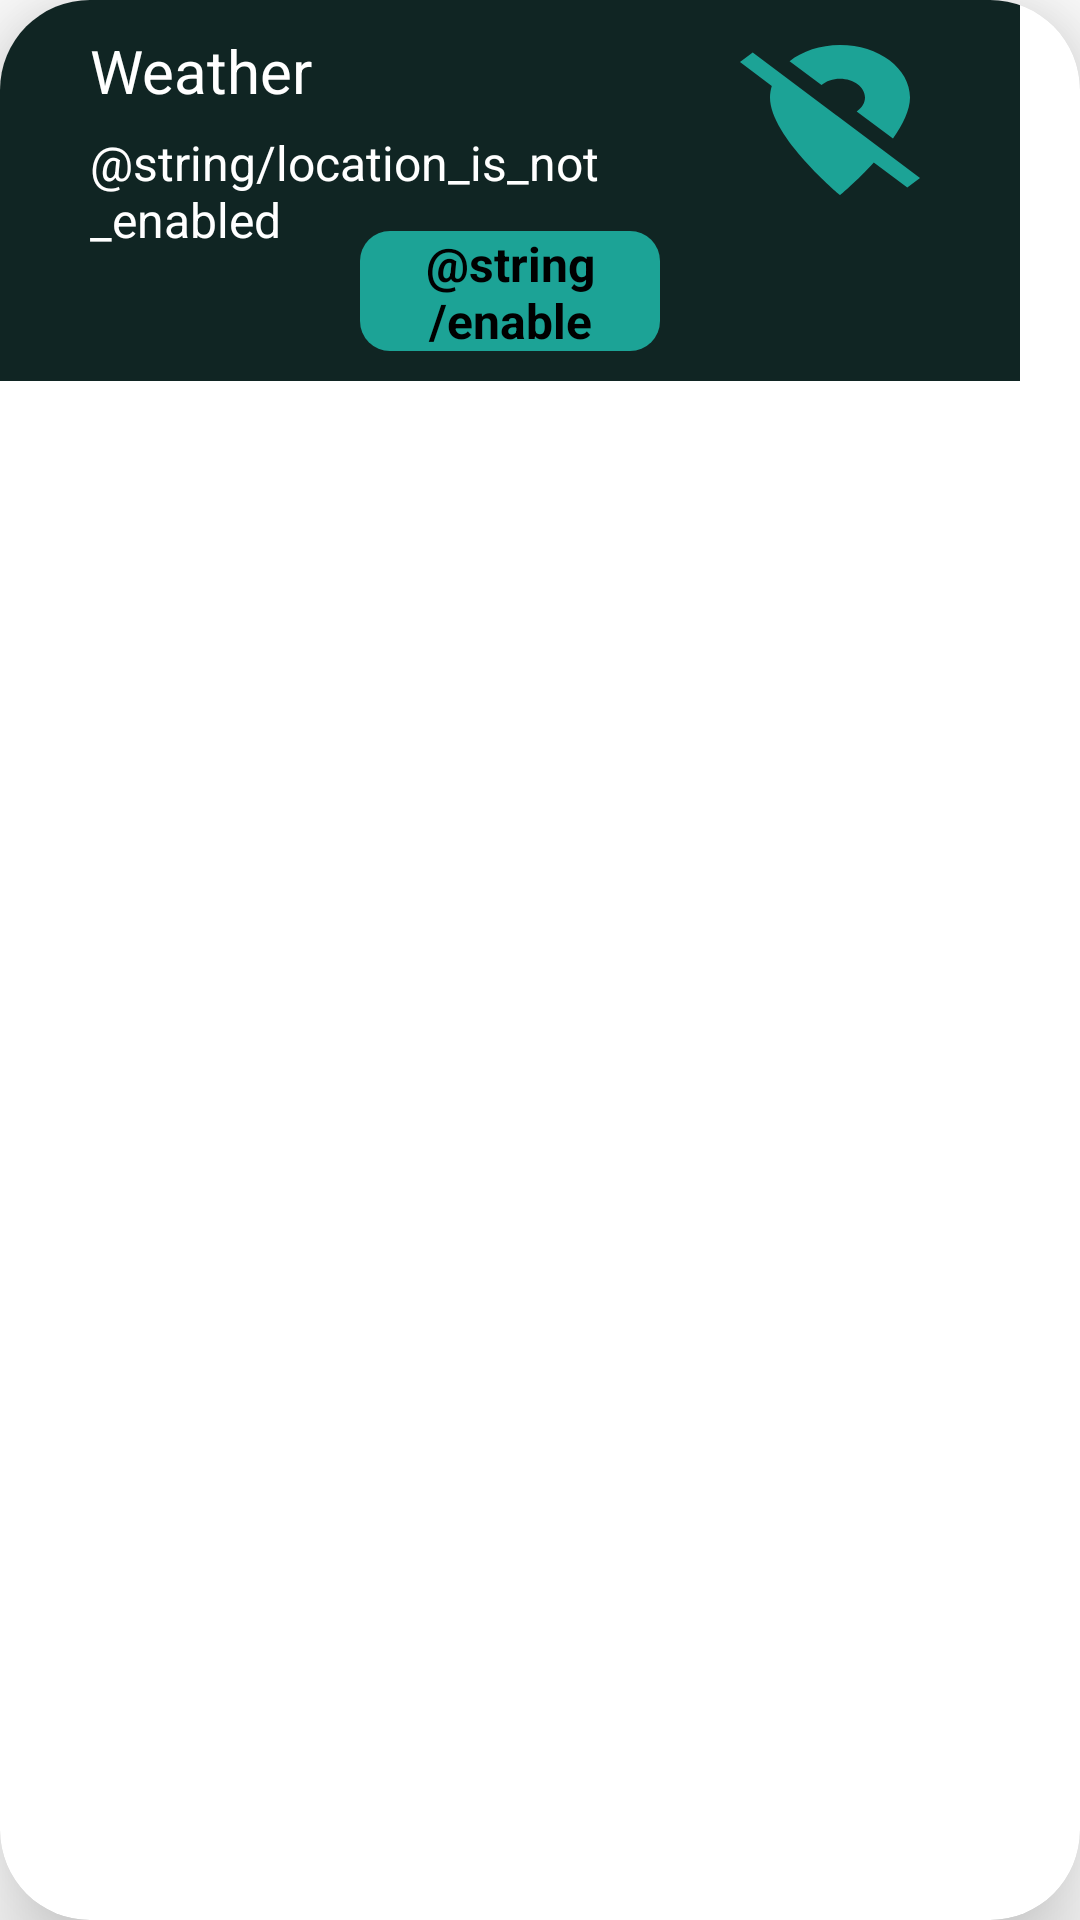

Where icons sit on this 1080 × 1920 app screen, as (x1,y1,x2,y2):
location off: (740,45,920,195)
